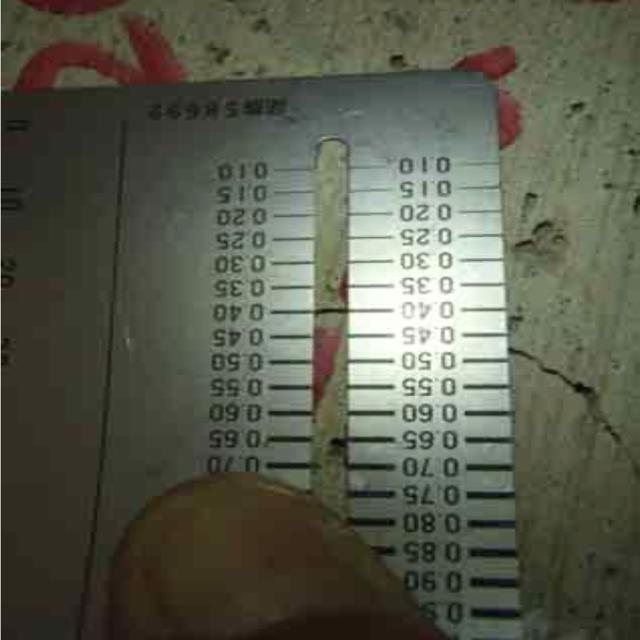corrosion: (507, 333, 640, 480)
